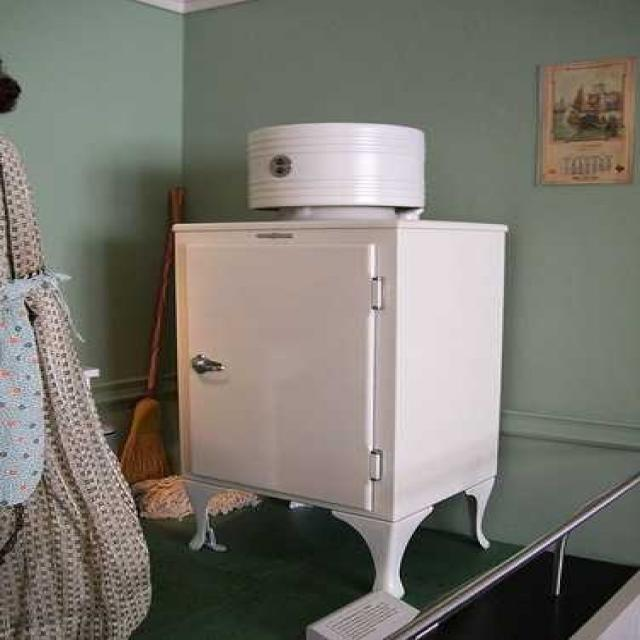refrigerator: (174, 220, 501, 516)
